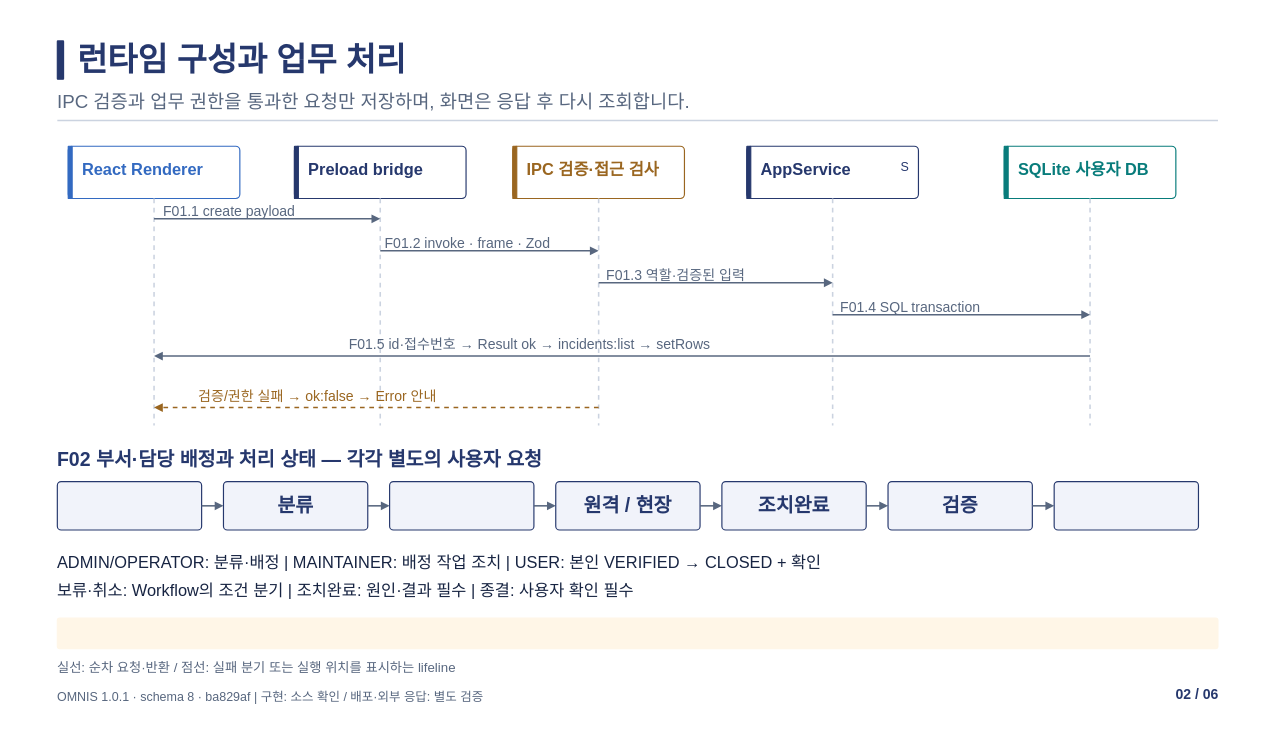
This 1276x730 diagram has some shape labels left out. Each missing label, with the centre of its shape:
"검증 상태 입력과 데이터 정합성 검사는 실물·장비 검증을 자동 수행했다는 의미가 아닙니다." belongs at (x=637, y=633).
"배정" belongs at (x=461, y=505).
"접수" belongs at (x=129, y=505).
"종결" belongs at (x=1126, y=505).
